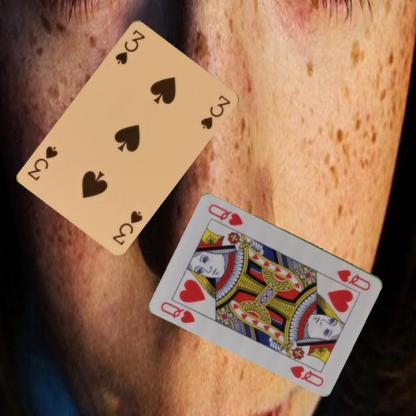3s: (110, 207, 145, 247), (112, 26, 146, 66)
Qh: (158, 298, 197, 324), (335, 266, 372, 292)
